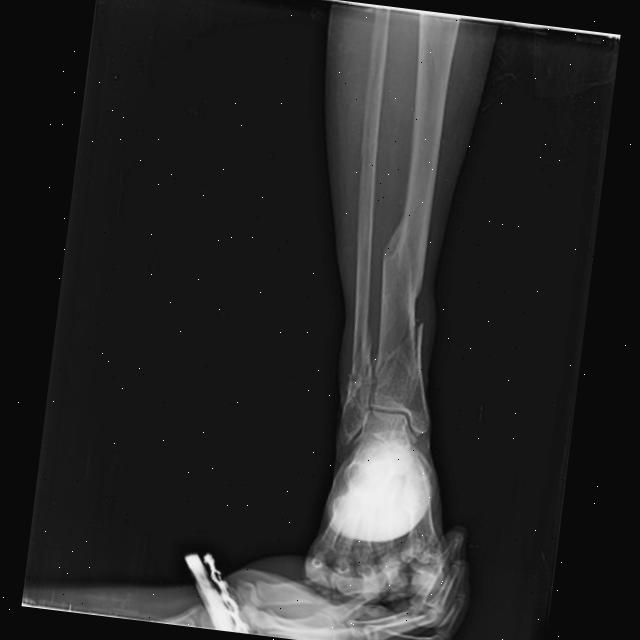fractured: (372, 304, 425, 379), (342, 351, 374, 417), (380, 207, 406, 269)
